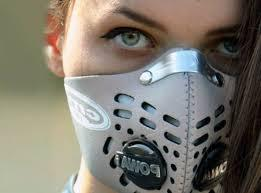Wearing Mask: (51, 0, 258, 193)
